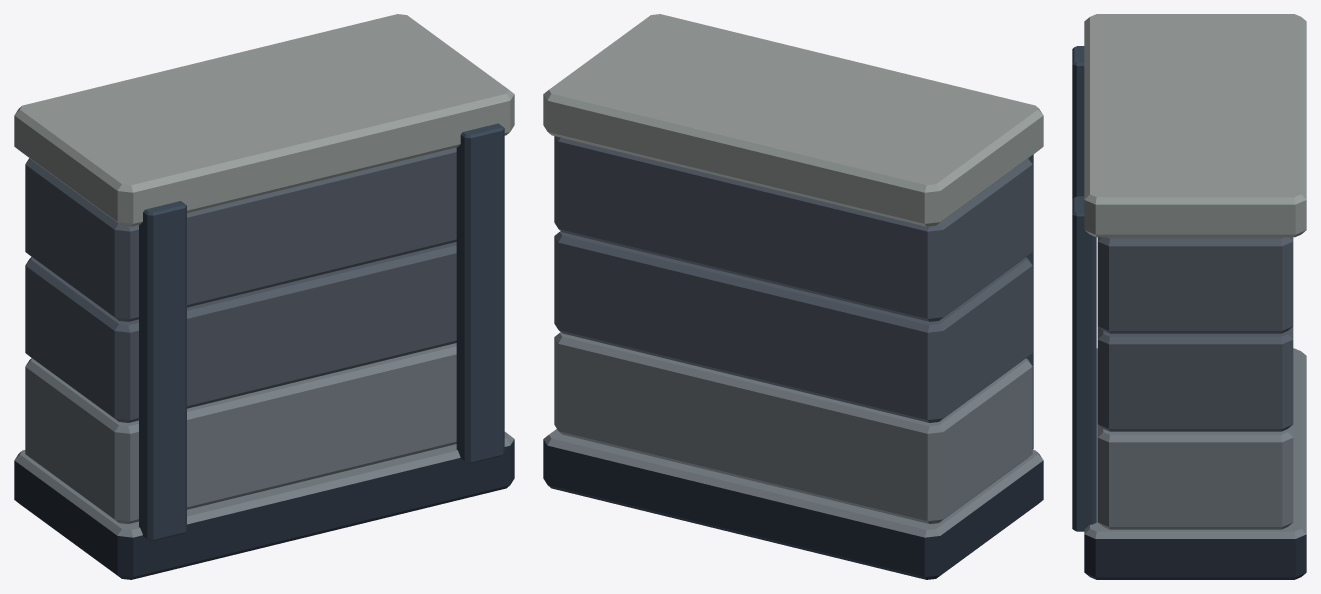
File: wall-short.glb
3 renders of one model, left to right at view 1: azimuth 30°, elevation 25°; view 2: azimuth 150°, elevation 25°; view 3: azimuth 270°, elevation 25°, orthographic. The views are drawn at different scales.
Visible parts, largest first — view 1: wall-short__body; view 2: wall-short__body; view 3: wall-short__body.
Boxes of the visible parts, <box> form: wall-short__body: <box>14,14,514,579</box>; wall-short__body: <box>543,14,1043,579</box>; wall-short__body: <box>1072,14,1306,579</box>.
Bounding box in the file's own units: 1 × 0.95 × 0.5275.
